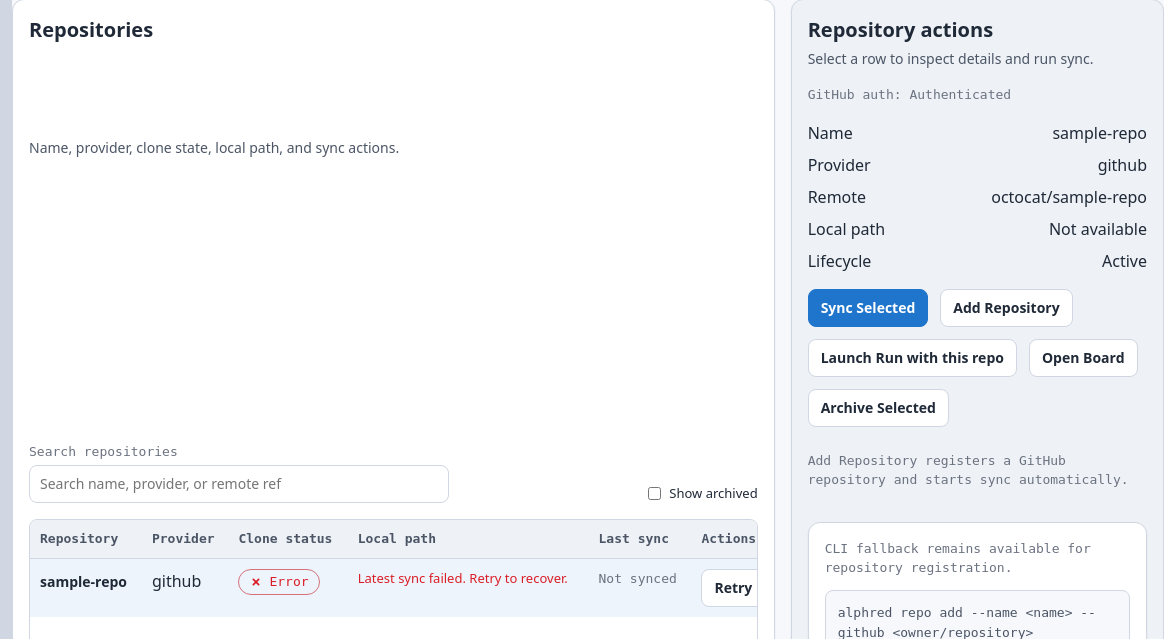
Test: RepositoriesPage › keeps retry path visible after sync failure and recovers on retry
This screenshot has width=1164, height=639.
Click the button with aria-label "Retry sample-repo" at (733, 588), box x1=701 y1=569 x2=765 y2=607
(page scrolled)
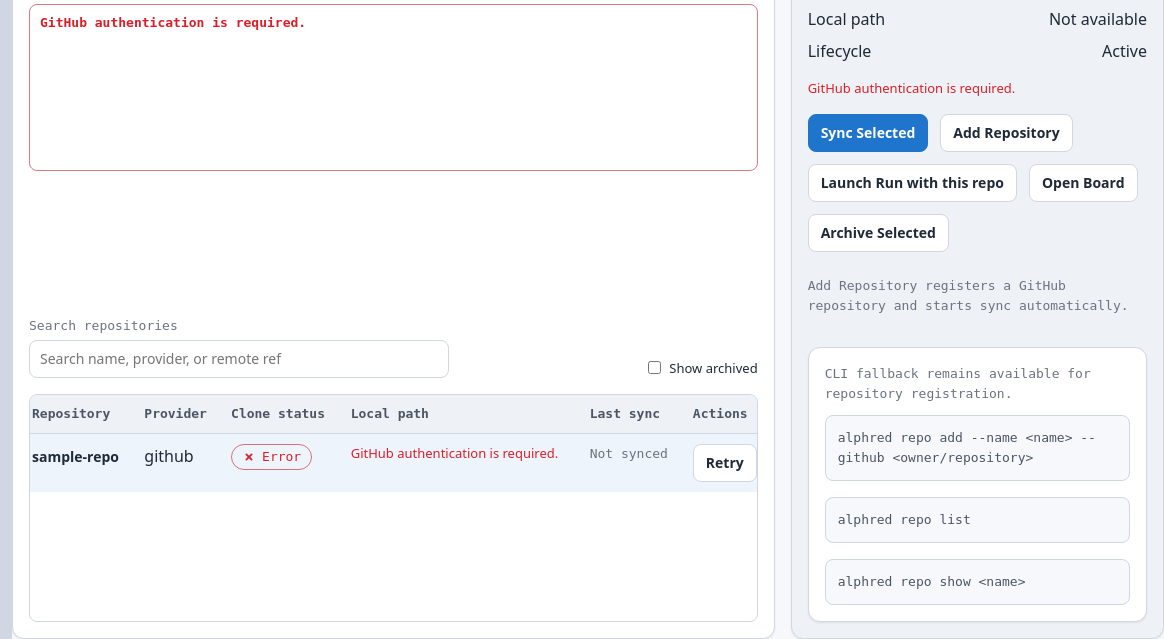
Check: the message reads "GitHub authentication is required.", box x1=40 y1=15 x2=306 y2=30
Click the button with aria-label "Retry sample-repo" at (725, 463), box x1=693 y1=444 x2=757 y2=482
(page scrolled)
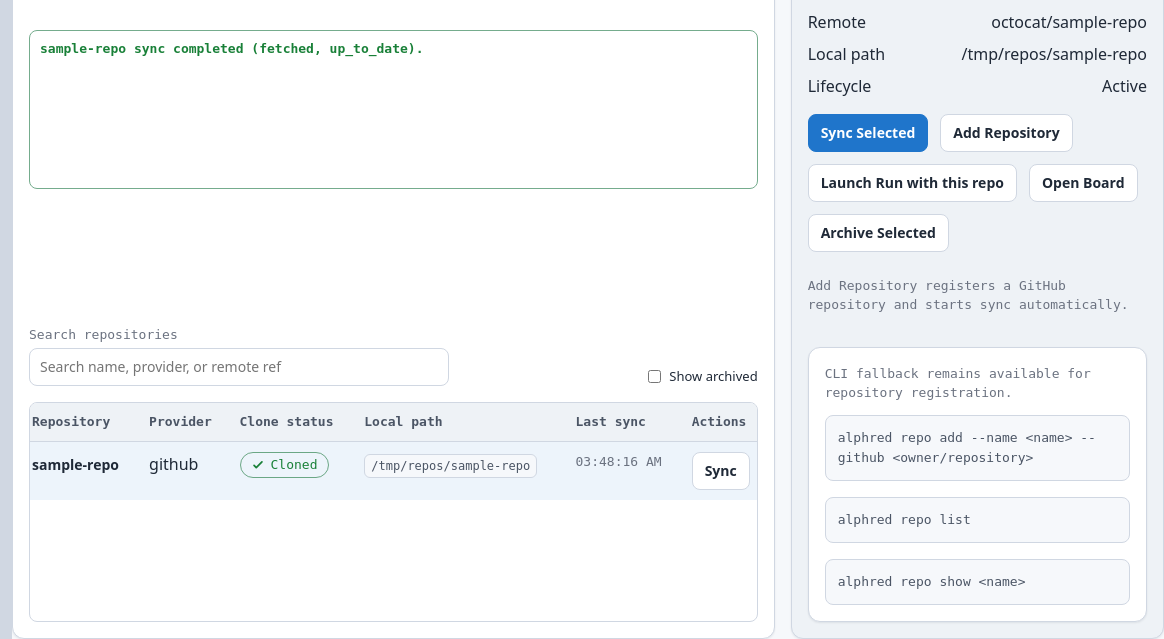
Check: the text "/tmp/repos/sample-repo" is shown 2 times, box x1=364 y1=454 x2=537 y2=478; x1=962 y1=42 x2=1147 y2=66
Check: the text "sample-repo sync completed (fetched, up_to_date)." is shown, box x1=29 y1=30 x2=758 y2=189
